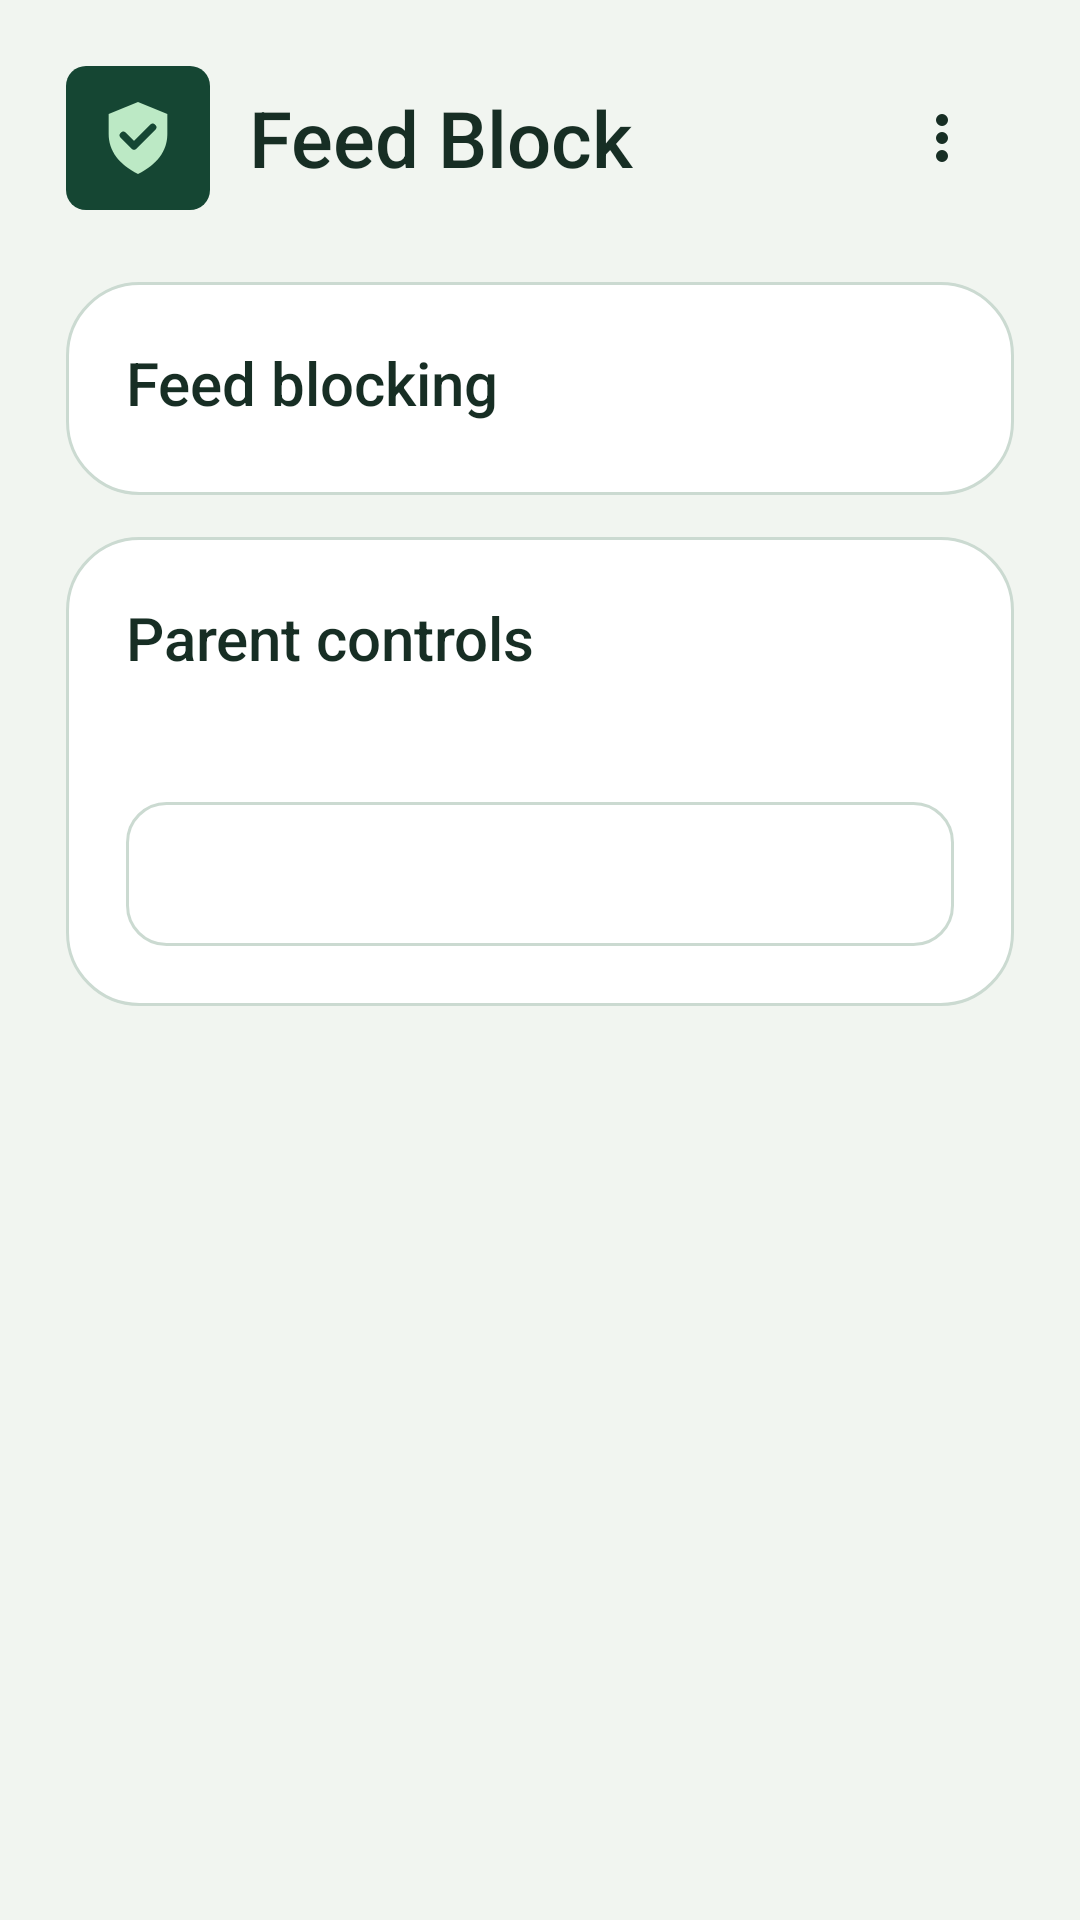

Icons on this 1080px×1920px Android screen, each with its box as (x1, y1, x2, y2):
feed check badge: (66, 66, 210, 210)
More options: (936, 114, 948, 162)
